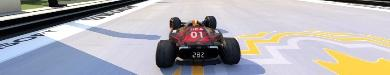Car: (155, 15, 240, 67)
curve: (0, 0, 389, 74)
obstacles-Borders: (0, 0, 22, 16)
